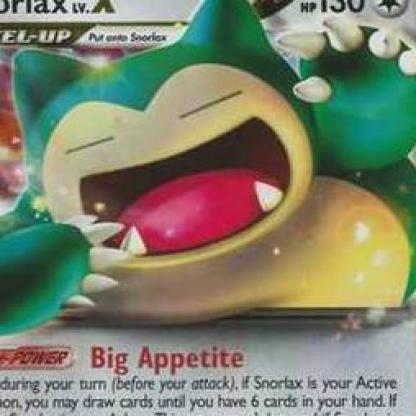Snorlax: (1, 24, 416, 338)
